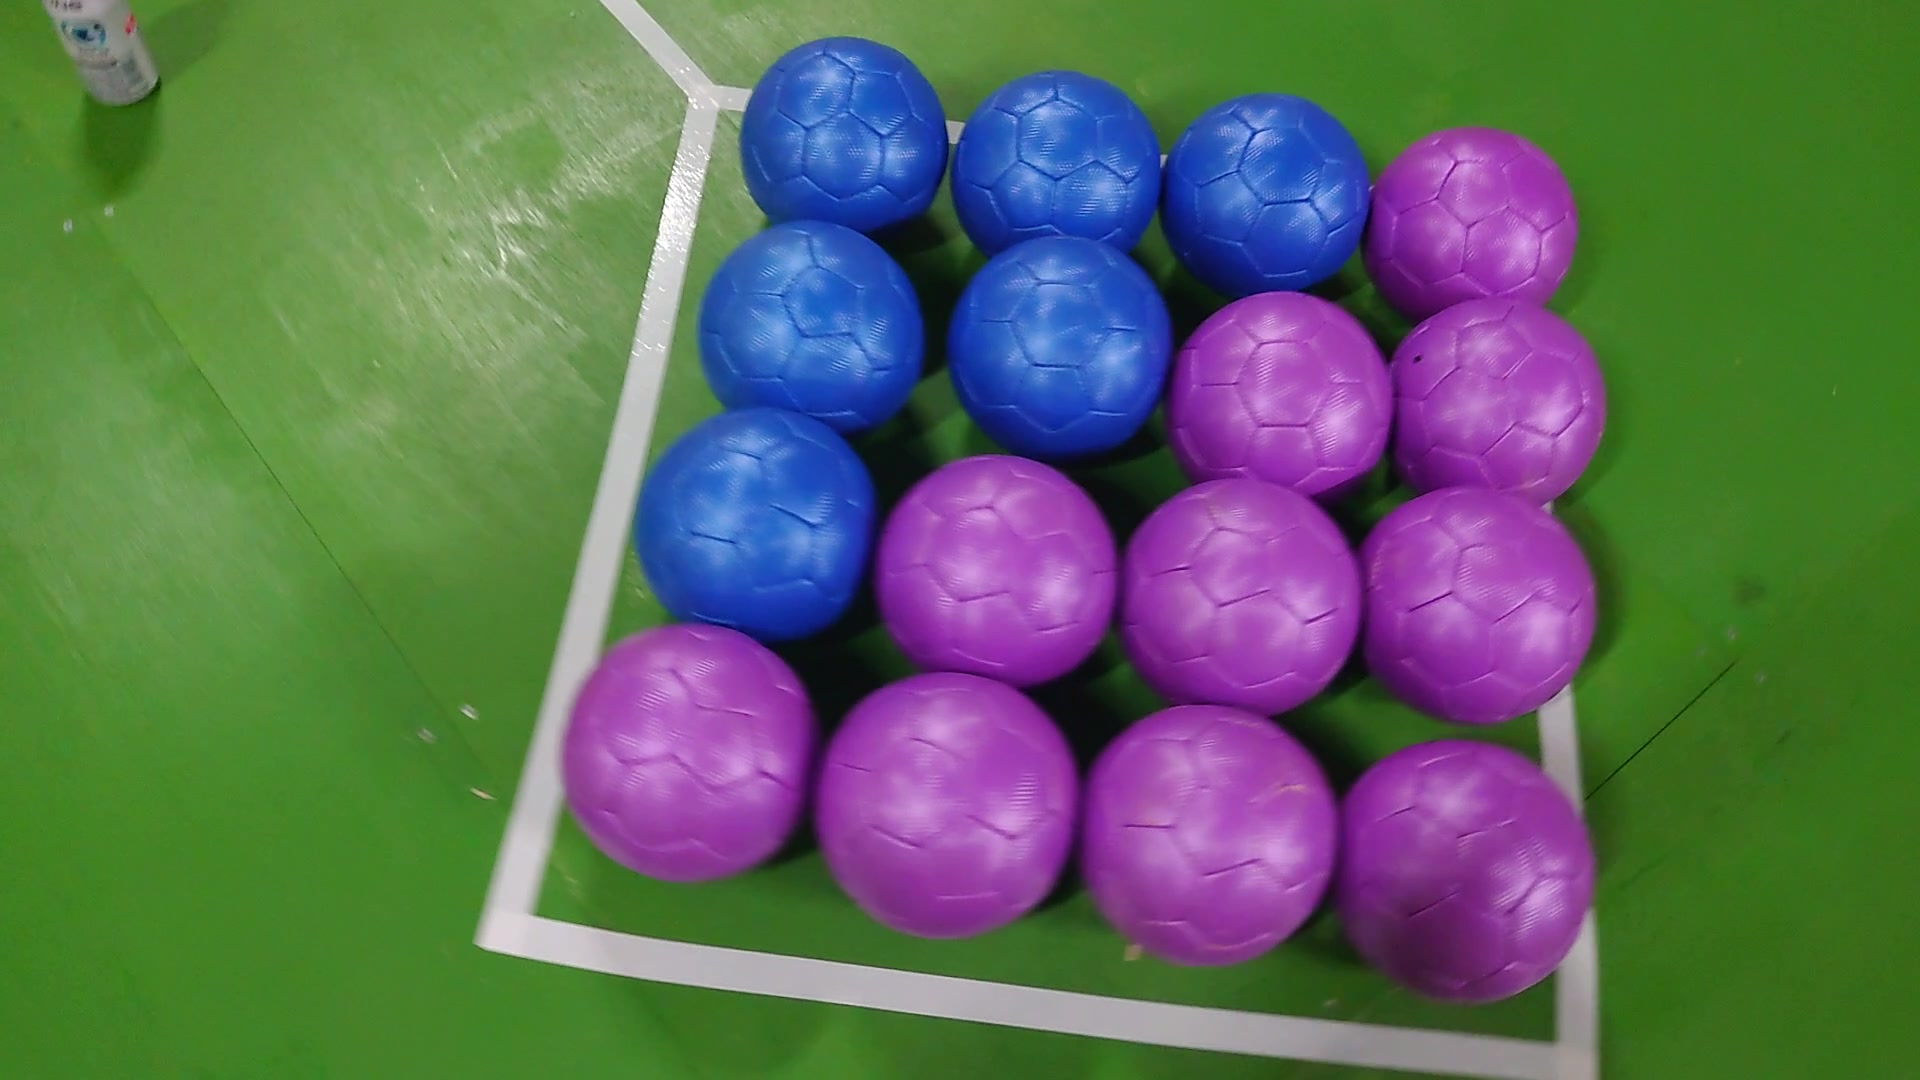blue: (633, 405, 876, 640), (947, 235, 1175, 451), (699, 219, 931, 425), (1163, 88, 1369, 290), (732, 40, 944, 235), (947, 69, 1166, 252)
purple: (820, 670, 1081, 938), (555, 620, 816, 885), (1345, 738, 1597, 1006), (1084, 702, 1342, 960), (1362, 487, 1604, 725), (1120, 473, 1362, 705), (876, 451, 1117, 679), (1168, 287, 1394, 493), (1381, 294, 1610, 493), (1365, 124, 1580, 310)
